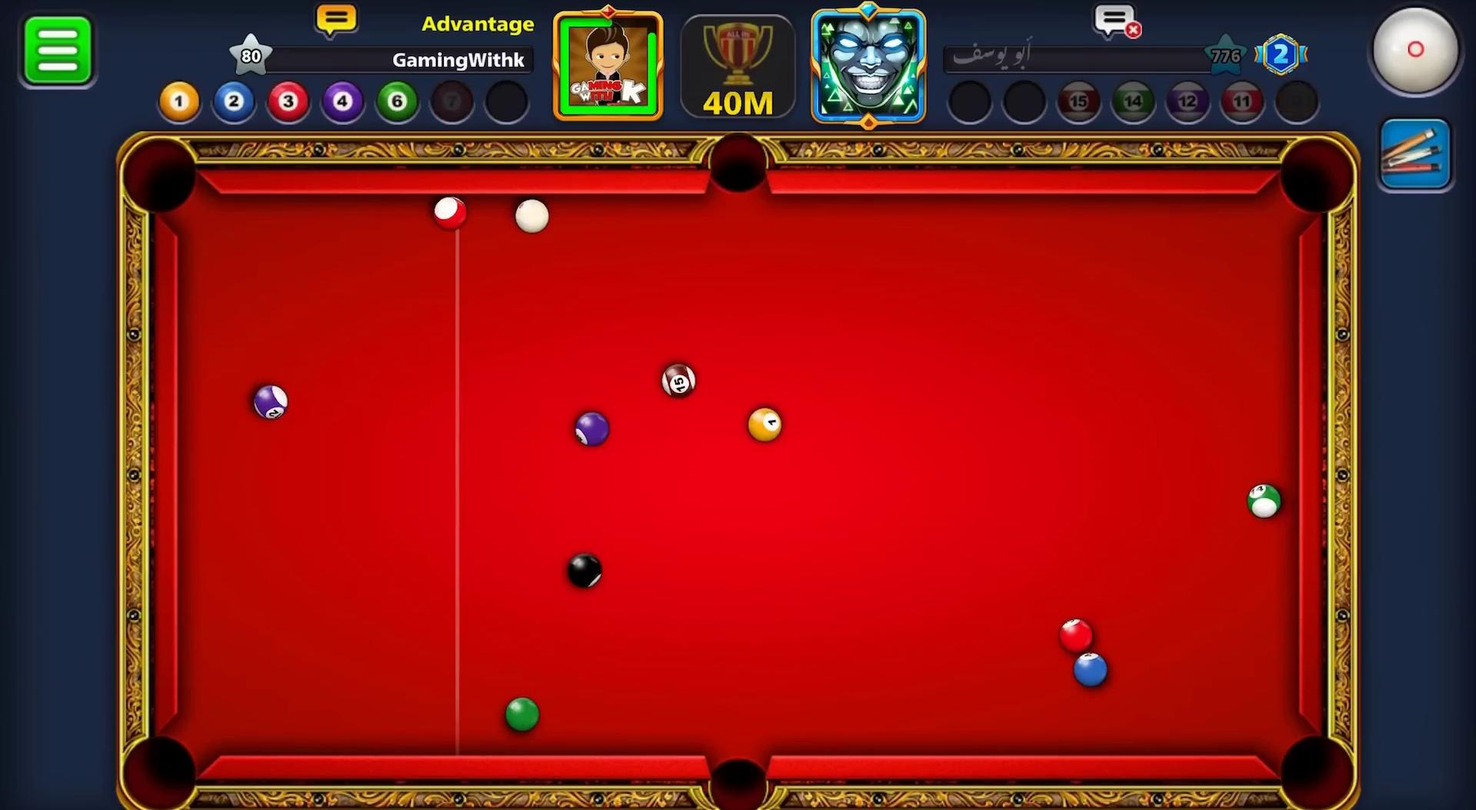Ball: (1235, 475, 1295, 532), (1057, 646, 1126, 695), (1043, 603, 1106, 654), (494, 691, 554, 740), (737, 400, 806, 442), (566, 400, 626, 448), (648, 360, 709, 406), (558, 542, 606, 597), (420, 189, 477, 232), (251, 378, 295, 428)
Hole: (1248, 709, 1386, 810), (108, 125, 225, 238), (109, 712, 232, 810), (685, 125, 812, 218), (1275, 118, 1361, 231), (688, 732, 781, 810)
Play_Area: (182, 195, 1300, 757)
Spin: (1348, 0, 1476, 115)
White: (512, 198, 563, 242)
